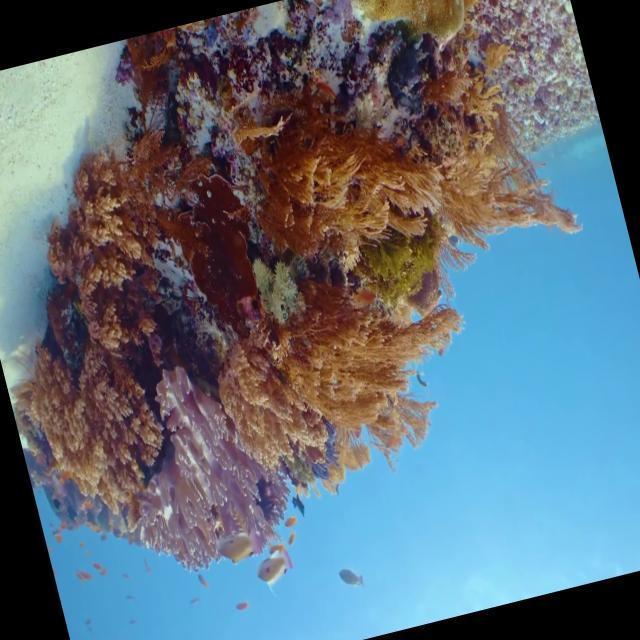fish: (250, 544, 291, 590), (215, 524, 255, 564), (336, 560, 366, 597)
